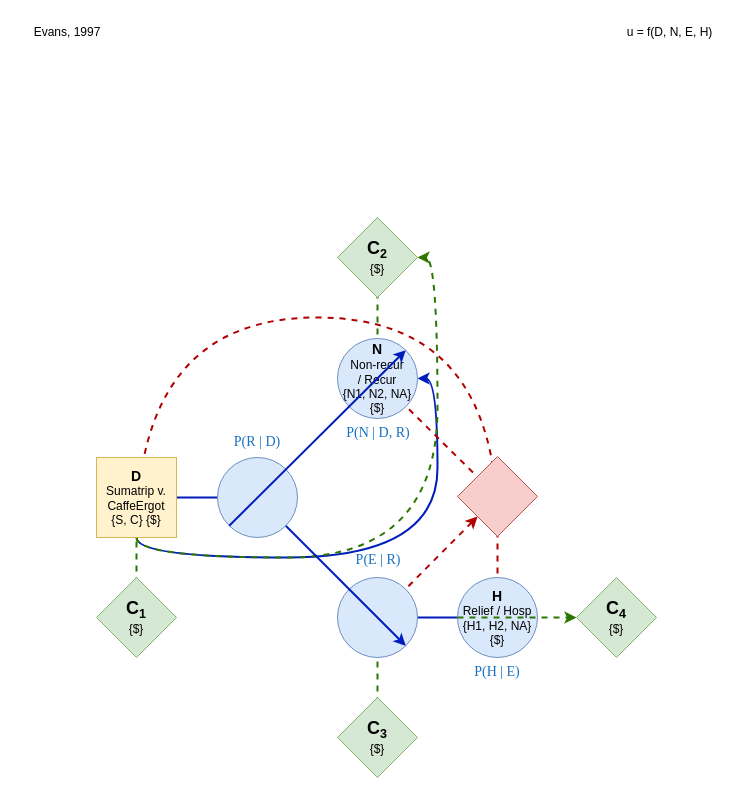
Some shapes in this 739 by 803 pixel diagram are drawn without their labels. Here are the shapes that lost their labels. From the top down, the centre of each, then its label:
At pixel 257 497: "R Relief / No relief {R1, R2}".
At pixel 497 496: "U {u}".
At pixel 377 617: "E Endures / ED {E1, E2, NA} {$}".
